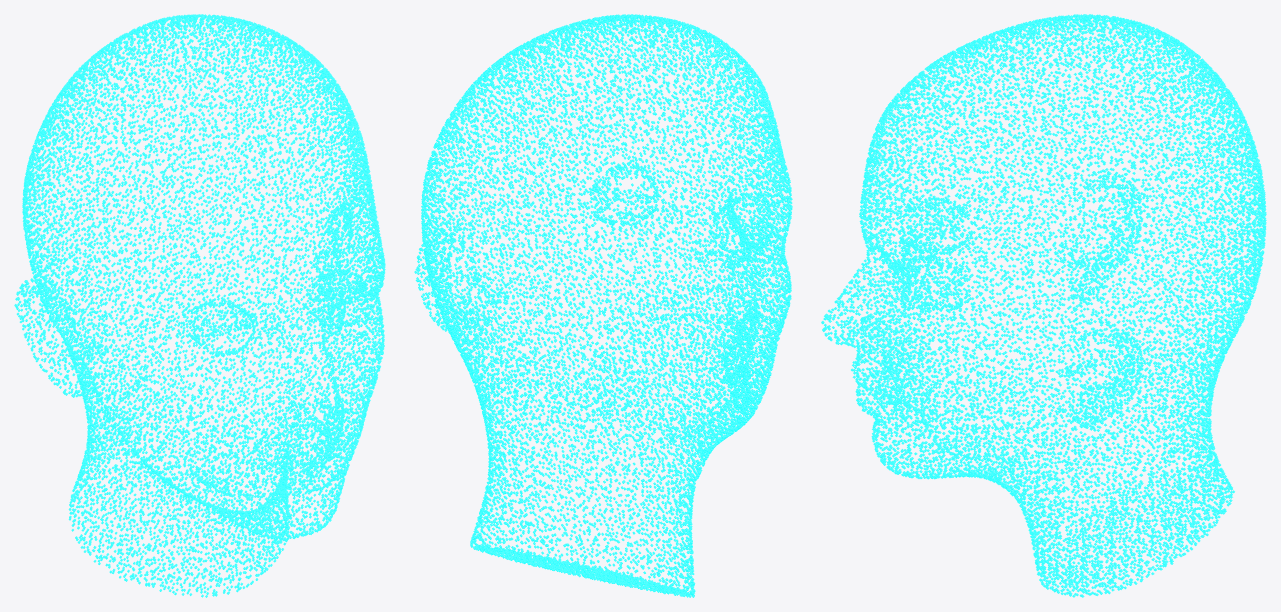
The model's file is tete_clean.glb.
3 views of the same model, side by side, from view 1: azimuth 30°, elevation 25°; view 2: azimuth 150°, elevation 25°; view 3: azimuth 270°, elevation 25° (orthographic). The views are drawn at different scales.
Parts seen in each view (by area): view 1: world; view 2: world; view 3: world.
Boxes of the visible parts, x1,y1,x2,y2 form: world: [14, 14, 385, 597]; world: [414, 14, 792, 597]; world: [821, 14, 1266, 597].
Size of the model in its own units: 4.49 by 7.1 by 5.23.
